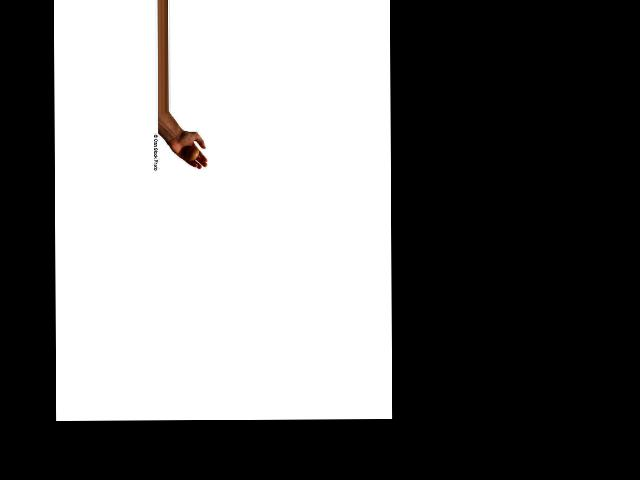egg: (185, 147, 198, 161)
